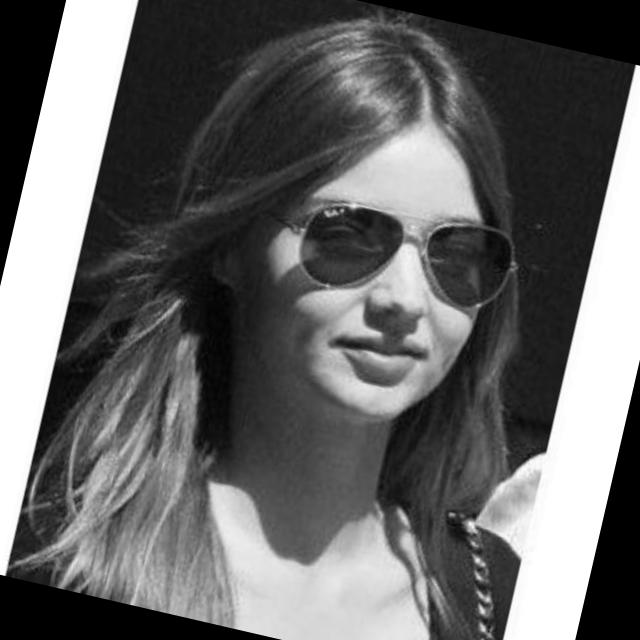glasses: (253, 182, 522, 326)
